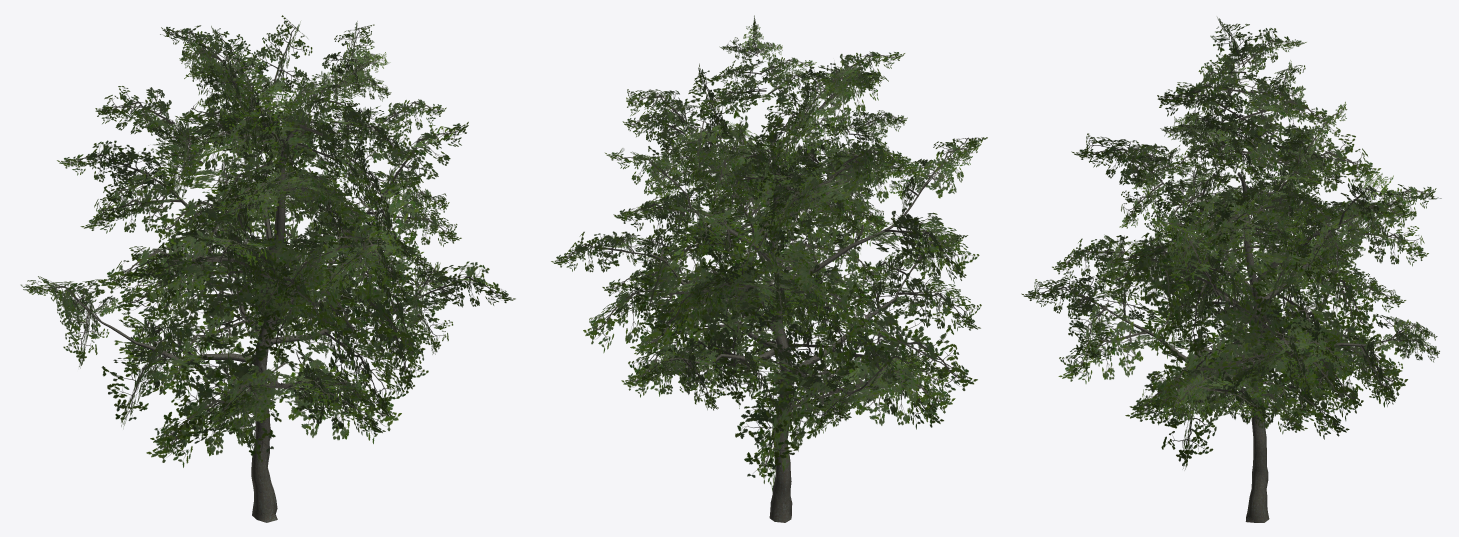
Rendered from oak_medium_2.glb.
3 views of the same model, side by side, from view 1: azimuth 30°, elevation 25°; view 2: azimuth 150°, elevation 25°; view 3: azimuth 270°, elevation 25° (orthographic). The views are drawn at different scales.
Visible parts, largest first — view 1: Medium_oak_tree__002_LOD1; view 2: Medium_oak_tree__002_LOD1; view 3: Medium_oak_tree__002_LOD1.
Boxes of the visible parts, box(x1,y1,x2,y2) form: Medium_oak_tree__002_LOD1: box(21, 15, 515, 522); Medium_oak_tree__002_LOD1: box(551, 15, 987, 522); Medium_oak_tree__002_LOD1: box(1021, 17, 1441, 522).
Bounding box in the file's own units: 9.02 × 10.29 × 8.67.
2 materials, 2 textured.
